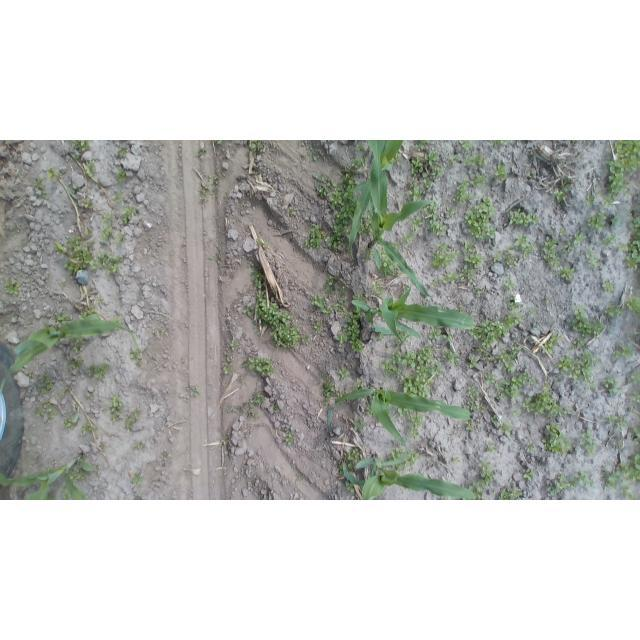Maize: (2, 312, 141, 396), (369, 140, 430, 296), (335, 388, 472, 449), (352, 284, 480, 343), (349, 141, 405, 260), (343, 456, 475, 500), (0, 452, 94, 501), (58, 179, 94, 238), (67, 388, 102, 439), (70, 151, 101, 195)
Weeds: (246, 265, 308, 348), (381, 346, 443, 398), (607, 140, 640, 198), (558, 352, 603, 389), (521, 384, 565, 417), (465, 196, 495, 241), (619, 216, 640, 269), (606, 454, 640, 485), (332, 177, 355, 222), (571, 304, 605, 334), (343, 309, 365, 352), (499, 371, 538, 395), (541, 422, 571, 453), (547, 473, 588, 495), (473, 322, 506, 347), (392, 216, 416, 248), (68, 239, 90, 273), (242, 356, 275, 377), (434, 242, 459, 268), (580, 429, 602, 458), (389, 448, 419, 469), (464, 241, 487, 267), (98, 251, 125, 273), (305, 223, 327, 249), (542, 235, 561, 265), (327, 224, 347, 252), (500, 343, 521, 369), (508, 209, 540, 226), (313, 172, 331, 198), (408, 412, 424, 440), (499, 485, 526, 500), (321, 373, 337, 397), (604, 376, 622, 396), (480, 463, 497, 484), (86, 363, 108, 379), (544, 334, 560, 355), (425, 200, 441, 221), (125, 408, 141, 428), (111, 396, 123, 422), (428, 221, 448, 236), (407, 180, 421, 201), (469, 482, 485, 500), (458, 179, 471, 201), (346, 448, 359, 469), (34, 178, 47, 199), (408, 159, 424, 176), (461, 264, 476, 282), (621, 341, 636, 359), (587, 213, 605, 228), (4, 280, 22, 295), (333, 295, 347, 314), (39, 375, 53, 394), (503, 250, 519, 266), (610, 414, 626, 429), (514, 235, 530, 250), (322, 280, 336, 297), (381, 257, 394, 275), (605, 304, 623, 317), (412, 140, 431, 152), (424, 151, 440, 165), (561, 265, 576, 279), (507, 314, 523, 327), (494, 164, 507, 180), (472, 172, 488, 185), (628, 296, 640, 313), (130, 347, 141, 365), (123, 205, 134, 223), (312, 294, 327, 307), (571, 338, 586, 351), (620, 485, 633, 500), (553, 188, 565, 204), (481, 349, 494, 363), (444, 351, 458, 364), (524, 244, 537, 258), (430, 167, 444, 180), (361, 215, 371, 233), (228, 404, 244, 415), (73, 140, 90, 150), (485, 373, 498, 386), (467, 385, 479, 399), (603, 282, 615, 295), (58, 313, 72, 324), (444, 273, 459, 283), (251, 394, 266, 404), (500, 424, 512, 436), (131, 472, 143, 484), (475, 154, 486, 167), (74, 342, 85, 355), (113, 191, 127, 201), (461, 140, 472, 152), (55, 242, 66, 254), (102, 226, 113, 238), (466, 401, 479, 411), (354, 419, 364, 432), (631, 425, 640, 439), (430, 330, 441, 341), (113, 233, 124, 244), (574, 233, 584, 245), (282, 432, 294, 442), (242, 307, 254, 317), (72, 359, 82, 371), (48, 169, 60, 179), (85, 162, 95, 174), (491, 141, 508, 148), (631, 392, 640, 405), (449, 156, 458, 169), (589, 258, 602, 267), (375, 283, 383, 297), (308, 151, 319, 161), (353, 379, 363, 390), (463, 156, 473, 167), (191, 387, 201, 398), (117, 171, 127, 182), (505, 278, 514, 290), (102, 212, 114, 221), (81, 309, 96, 316), (524, 470, 534, 480), (33, 407, 43, 417), (120, 148, 130, 158), (604, 198, 613, 209), (91, 261, 102, 270), (613, 348, 621, 360), (584, 250, 596, 258), (365, 248, 372, 261), (471, 357, 478, 370), (351, 160, 361, 169), (430, 277, 439, 287), (340, 335, 349, 345), (563, 242, 573, 251), (445, 207, 454, 217), (346, 481, 355, 491), (71, 470, 81, 479), (82, 197, 91, 207), (339, 370, 350, 378), (632, 373, 640, 384), (607, 232, 615, 243), (415, 216, 422, 228), (443, 336, 455, 343), (322, 306, 331, 315), (493, 253, 502, 262), (424, 179, 433, 188), (251, 140, 260, 149), (509, 303, 520, 310), (290, 207, 297, 218), (587, 196, 594, 207), (525, 442, 536, 449), (81, 426, 88, 437), (466, 423, 474, 432), (247, 410, 256, 418), (64, 420, 72, 429), (47, 413, 57, 420), (356, 143, 363, 152), (474, 290, 483, 297), (613, 217, 622, 224), (559, 228, 566, 237), (513, 408, 520, 417), (136, 442, 145, 449), (545, 296, 552, 304), (314, 323, 321, 331), (531, 171, 538, 179), (453, 455, 460, 463), (62, 493, 70, 500), (398, 407, 407, 413), (563, 179, 573, 184), (353, 294, 363, 299), (61, 387, 66, 397), (602, 239, 609, 246), (567, 408, 574, 415), (486, 445, 493, 452), (223, 367, 230, 374), (257, 237, 263, 245), (402, 334, 410, 340), (43, 401, 51, 407), (365, 402, 370, 411), (231, 340, 236, 349), (274, 407, 280, 414), (200, 148, 205, 156), (114, 316, 120, 322), (158, 328, 164, 334), (396, 154, 401, 161), (340, 286, 345, 293), (88, 425, 93, 432), (628, 210, 632, 218), (134, 497, 143, 500), (378, 335, 383, 340), (460, 306, 466, 310), (222, 439, 226, 445), (528, 309, 532, 314), (218, 140, 223, 144), (202, 196, 205, 200)
